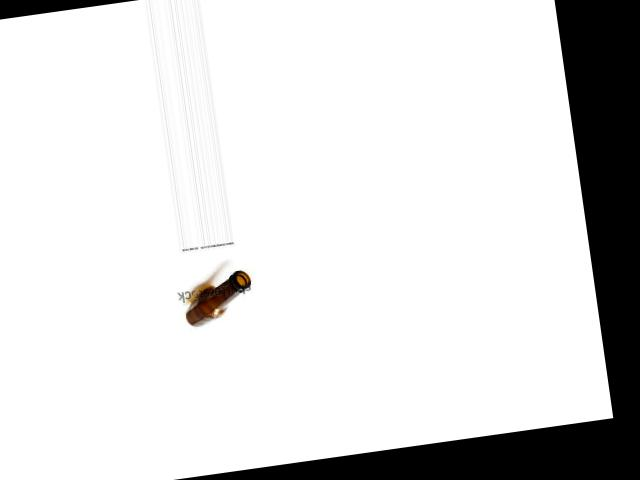beer: (180, 268, 255, 327)
